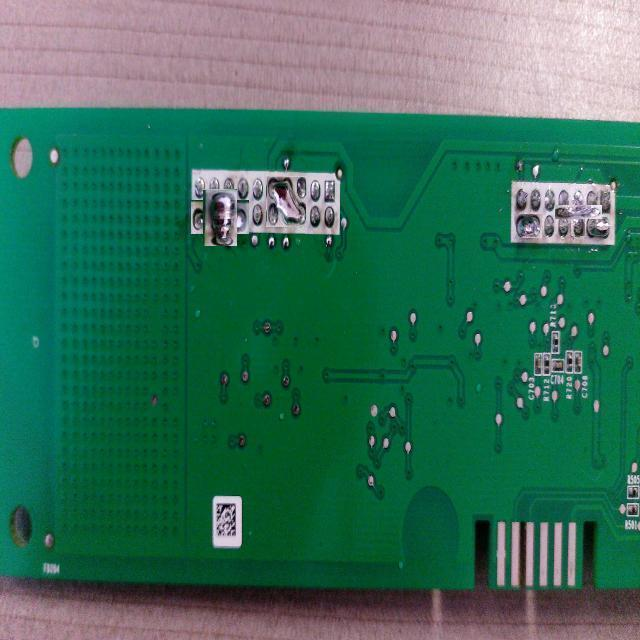Short_circuit: (198, 194, 244, 240), (266, 176, 306, 227), (562, 196, 594, 228), (514, 214, 542, 238), (587, 221, 610, 238)
